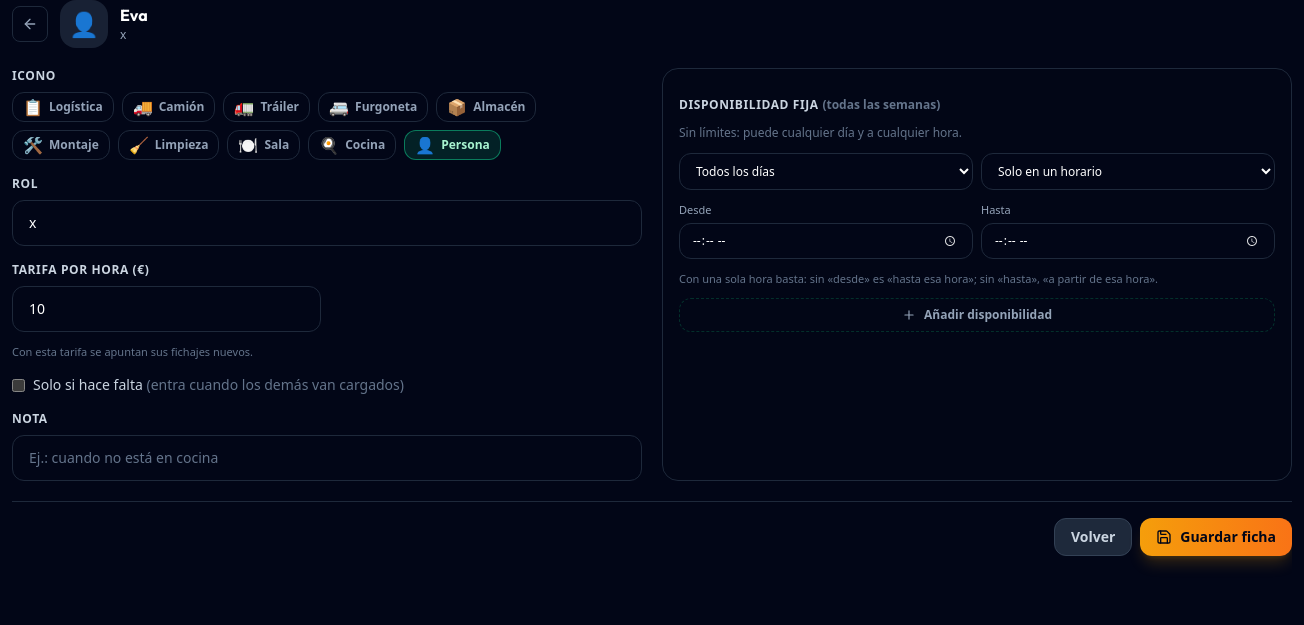
Test: FichaTrabajador › si no se guarda (sesión caducada), lo dice
Click the button "Guardar ficha" at (1216, 537), box [1140,518,1292,556]
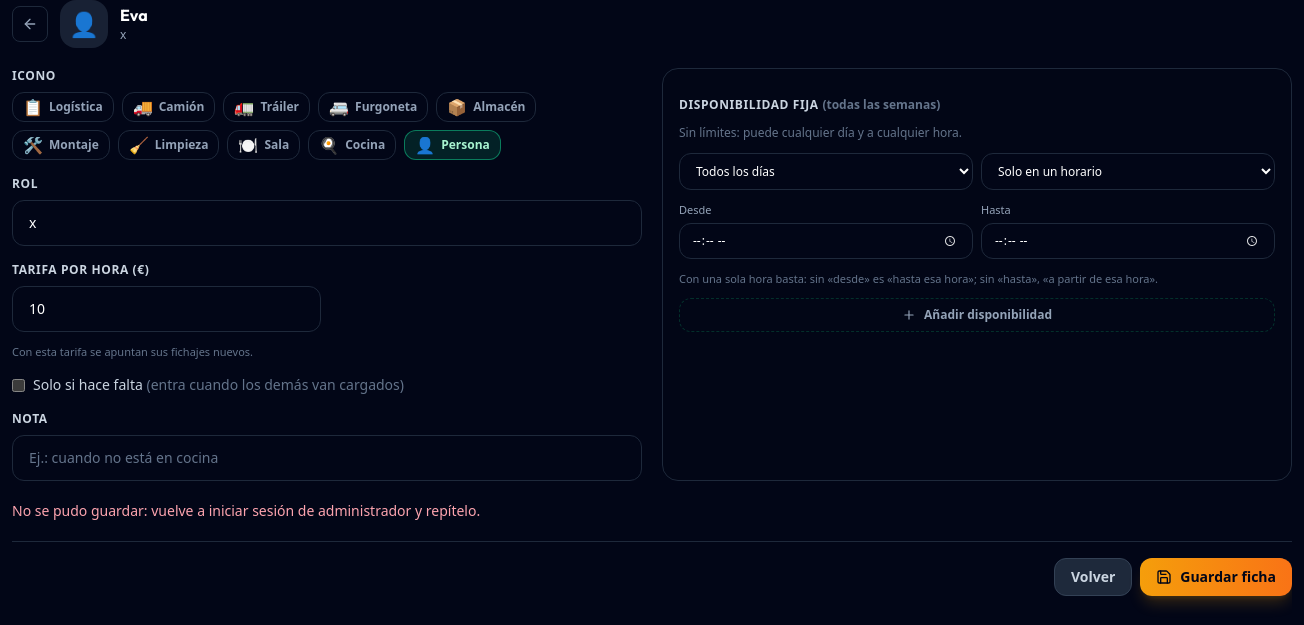
Expected: the message shows "No se pudo guardar", [12,501,480,520]
